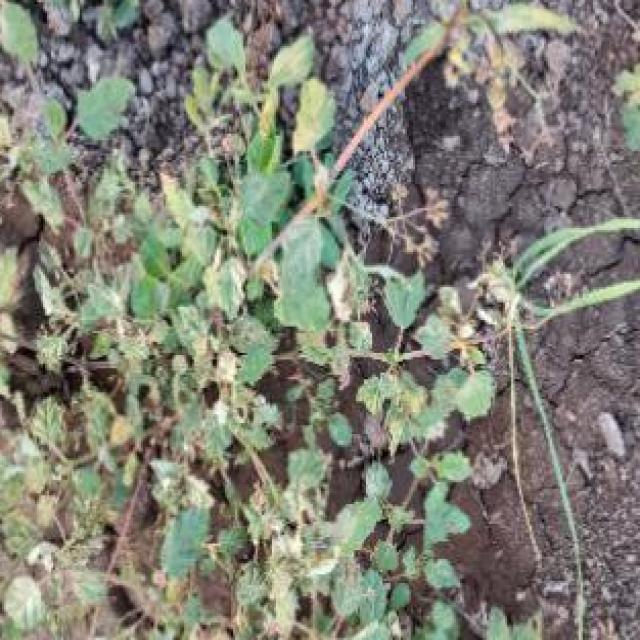weed: (0, 0, 442, 640)
